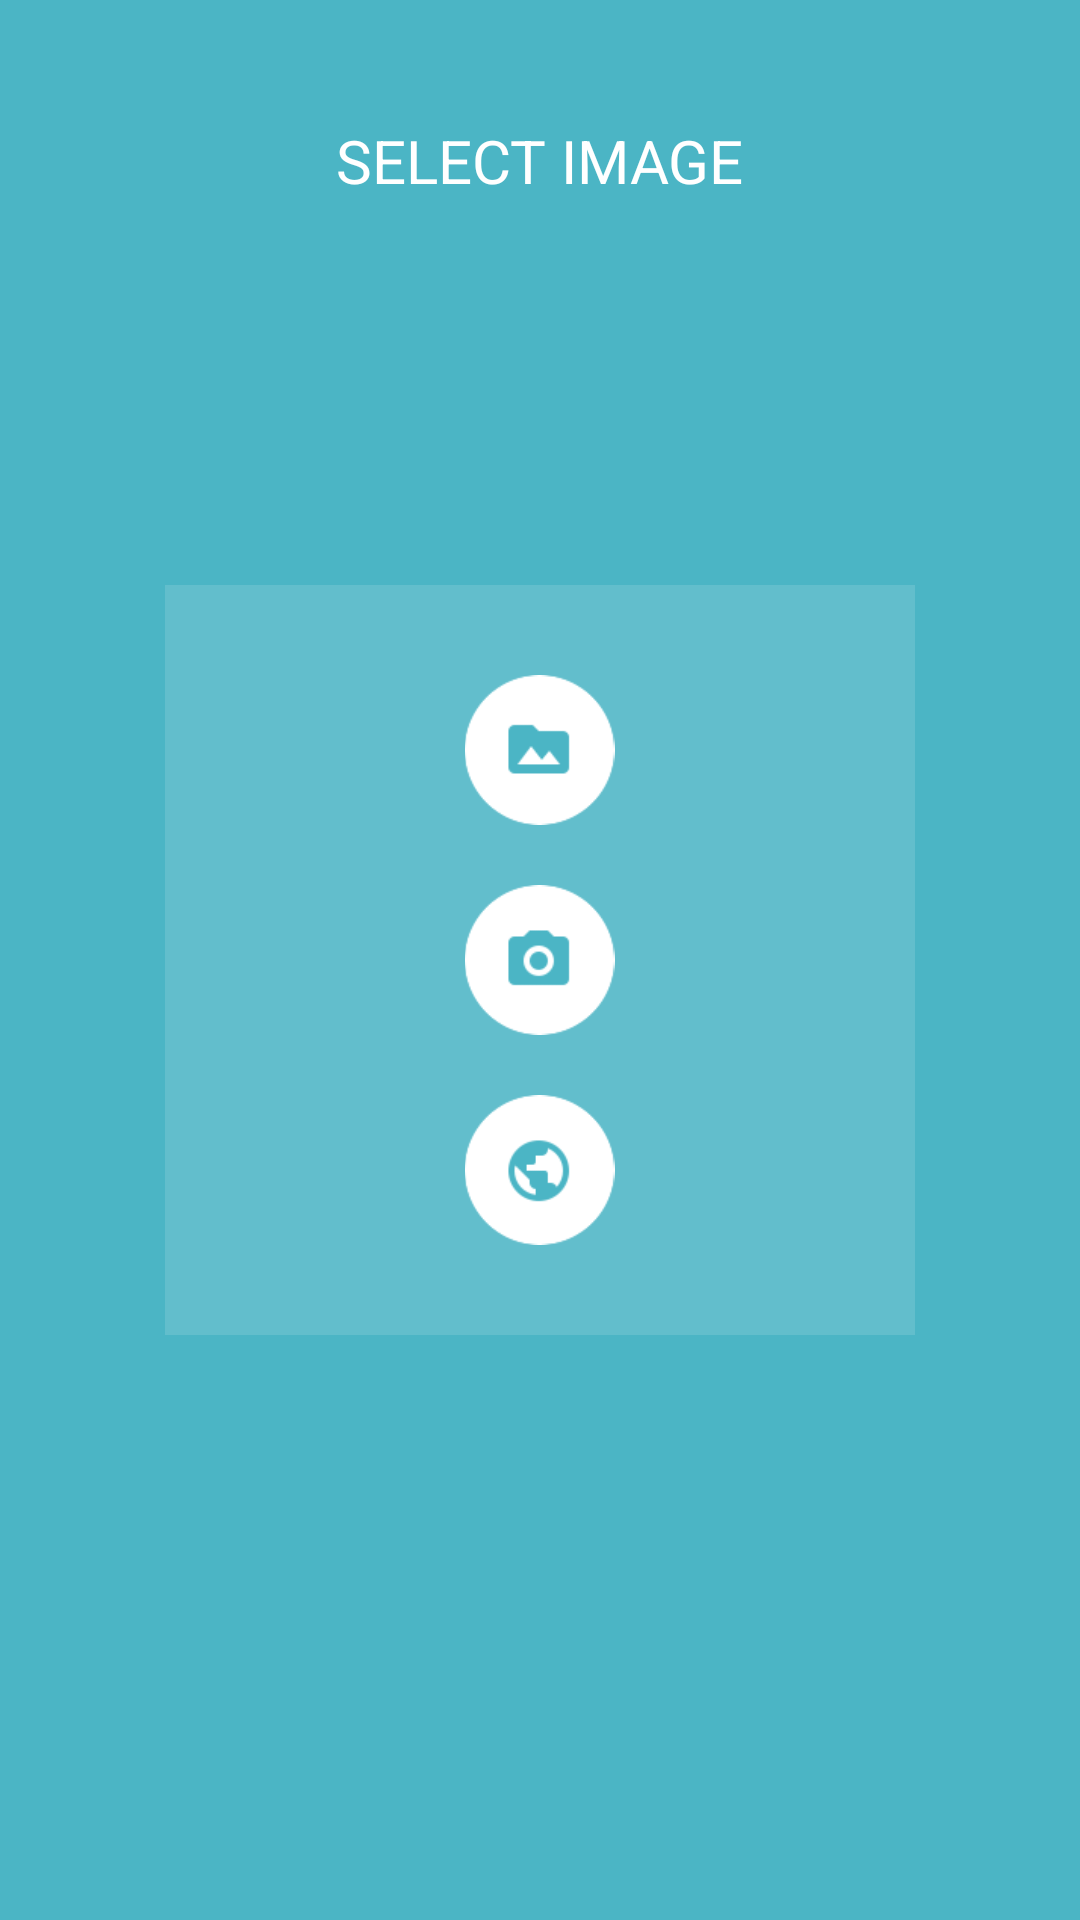

Screen size 1080px x 1920px. Icon name, then its box in pixels as [x1,y1,x2,y2]:
camera: [465,885,615,1035]
gallery: [465,675,615,825]
internet: [465,1095,615,1245]
